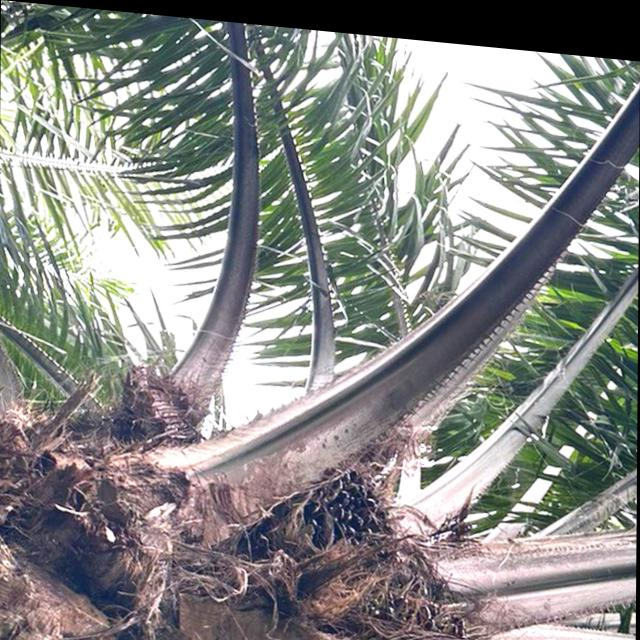unripe: (218, 434, 462, 640)
